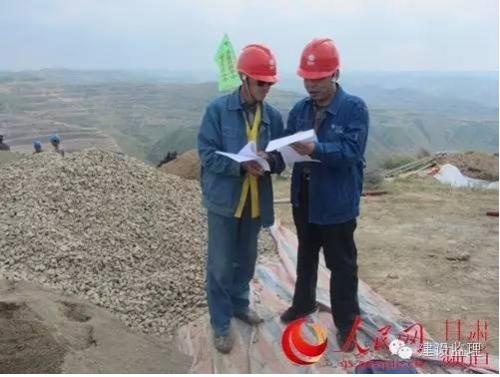red: (296, 38, 341, 102), (234, 44, 278, 102)
